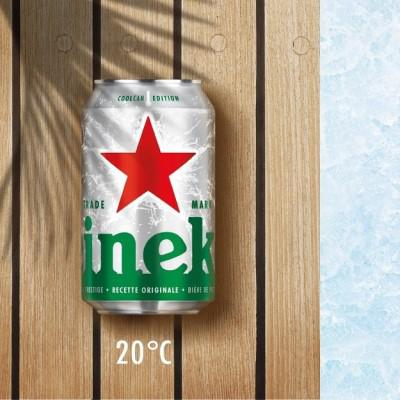beer: (82, 78, 215, 320)
